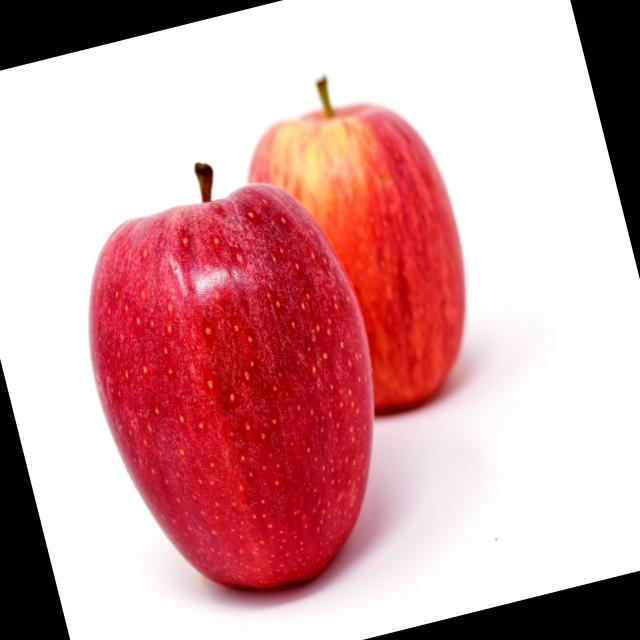apple: (59, 164, 435, 640), (218, 80, 506, 450)
